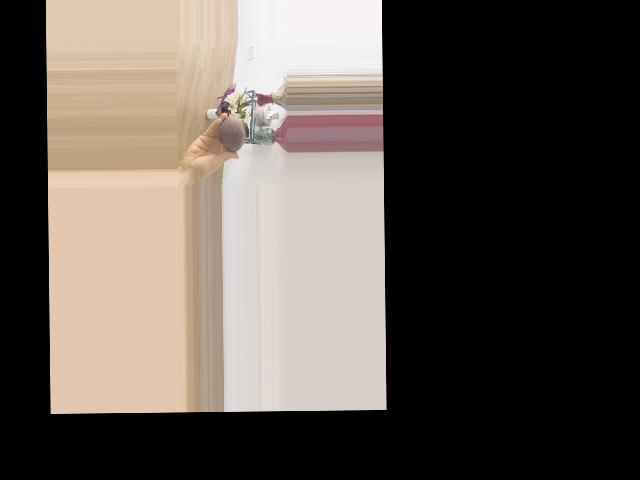beet: (200, 115, 249, 151)
